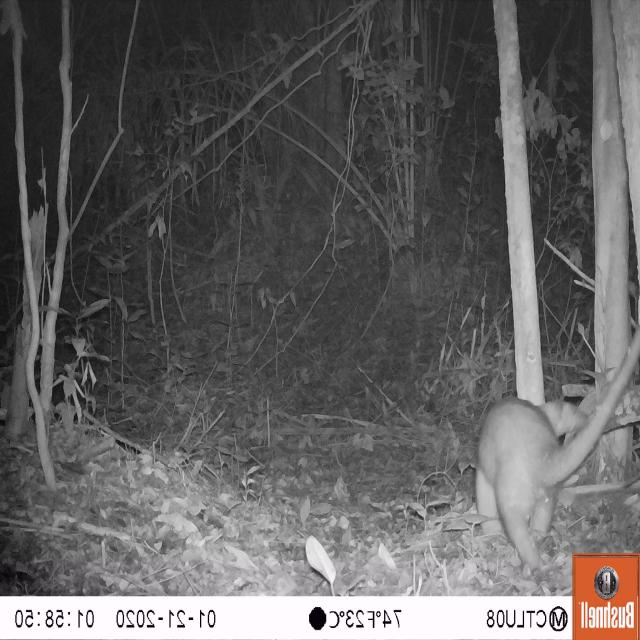Southern Tamandua: (467, 310, 640, 554)
